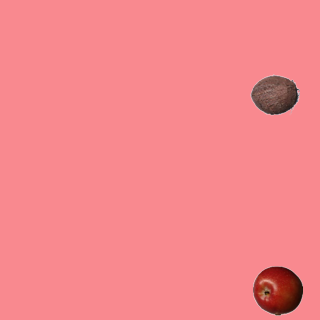Apple Braeburn: (252, 265, 302, 315)
Cocos: (249, 69, 299, 119)
